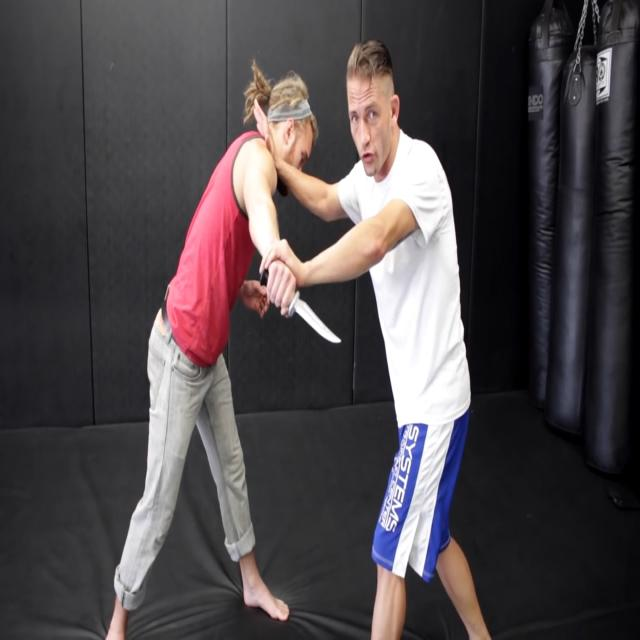knife: (261, 268, 345, 350)
